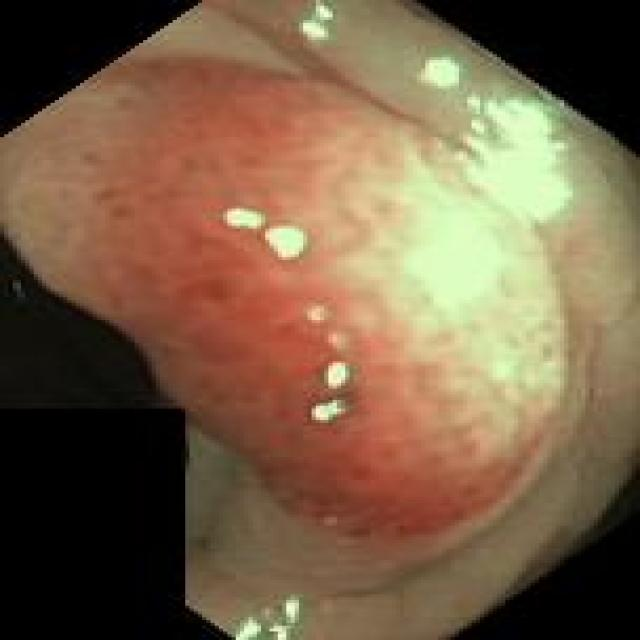Polyps: (4, 58, 566, 537)
